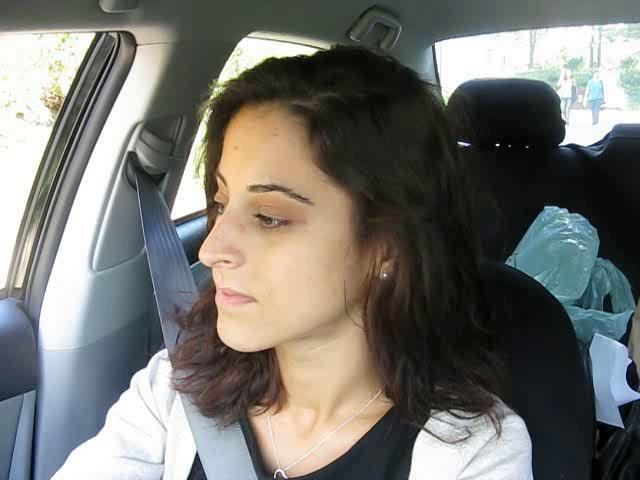no_yawn: (197, 278, 270, 317)
open_eyeL: (201, 183, 231, 226)
open_eyeR: (241, 200, 305, 238)
